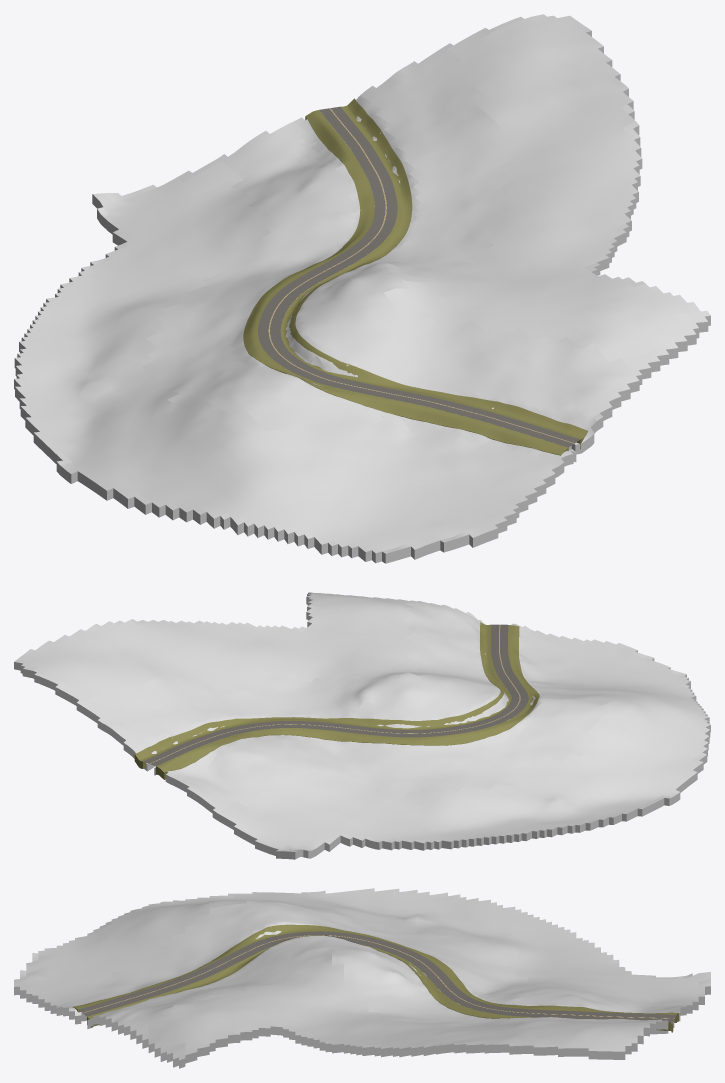
File: conz_193.glb
The picture shows the model from 3 angles, top to bottom: view 1: azimuth 30°, elevation 25°; view 2: azimuth 150°, elevation 25°; view 3: azimuth 270°, elevation 25°; orthographic projection. The views are drawn at different scales.
Visible parts, largest first — view 1: terrain193, road193, verge193L, verge193R, paint_yellow193; view 2: terrain193, road193, verge193L, verge193R, paint_yellow193; view 3: terrain193, road193, verge193L, verge193R, paint_yellow193.
Part boxes in pixels (x1=…): terrain193: x1=14, y1=14, x2=710, y2=563; road193: x1=258, y1=106, x2=579, y2=447; verge193L: x1=243, y1=110, x2=568, y2=455; verge193R: x1=280, y1=98, x2=587, y2=449; paint_yellow193: x1=268, y1=108, x2=573, y2=443; terrain193: x1=14, y1=592, x2=710, y2=859; road193: x1=143, y1=624, x2=528, y2=766; verge193L: x1=156, y1=625, x2=539, y2=779; verge193R: x1=134, y1=622, x2=511, y2=768; paint_yellow193: x1=150, y1=625, x2=520, y2=763; terrain193: x1=14, y1=888, x2=710, y2=1068; road193: x1=78, y1=931, x2=676, y2=1022; verge193L: x1=72, y1=924, x2=678, y2=1022; verge193R: x1=87, y1=935, x2=673, y2=1032; paint_yellow193: x1=84, y1=935, x2=674, y2=1018.
Size of the model in its own units: 218 by 47.51 by 228.
